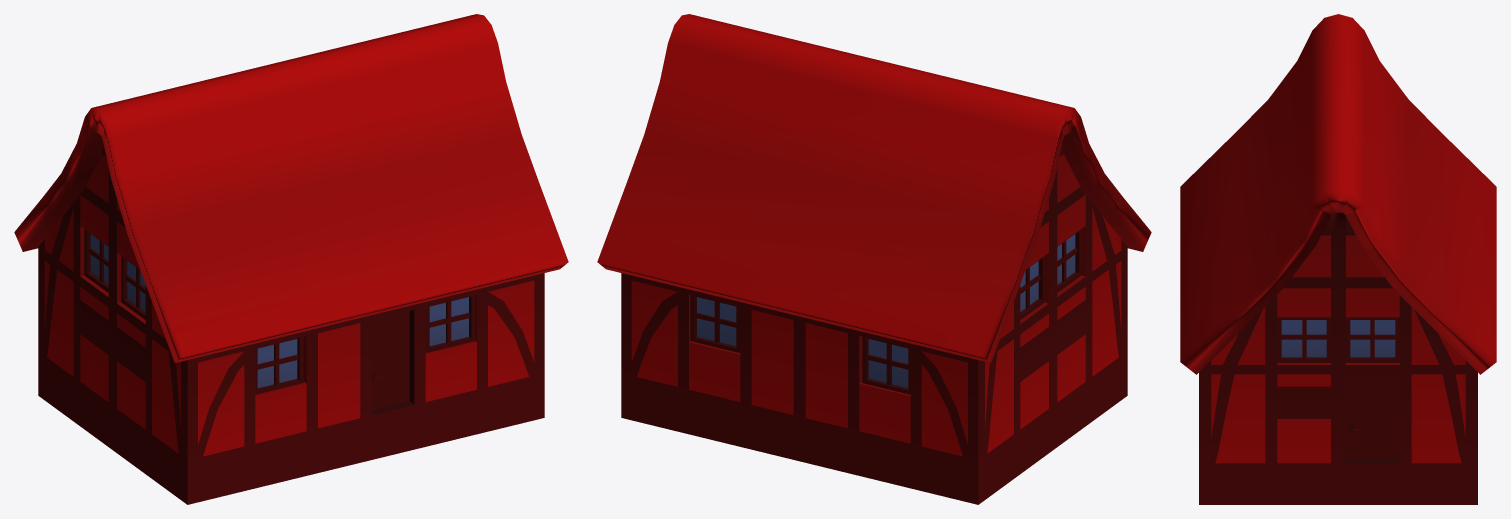
File: buildings-historical-medievalcottage_v1.fbx
3 views of the same model, side by side, from view 1: azimuth 30°, elevation 25°; view 2: azimuth 150°, elevation 25°; view 3: azimuth 270°, elevation 25° (orthographic). The views are drawn at different scales.
Parts seen in each view (by area): view 1: MedievalCottage_v1_base, MedievalCottage_v1_windowRefl; view 2: MedievalCottage_v1_base, MedievalCottage_v1_windowRefl; view 3: MedievalCottage_v1_base, MedievalCottage_v1_windowRefl.
Part boxes in pixels (box(x1,y1,x2,y2)): MedievalCottage_v1_base: box(14, 14, 568, 504); MedievalCottage_v1_windowRefl: box(90, 234, 468, 388); MedievalCottage_v1_base: box(597, 14, 1151, 504); MedievalCottage_v1_windowRefl: box(697, 234, 1075, 388); MedievalCottage_v1_base: box(1180, 14, 1496, 504); MedievalCottage_v1_windowRefl: box(1281, 320, 1395, 357).
Bounding box in the file's own units: 11.52 × 9.84 × 8.76.
